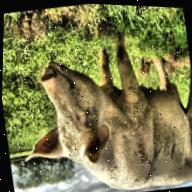boar: (4, 16, 192, 192)
